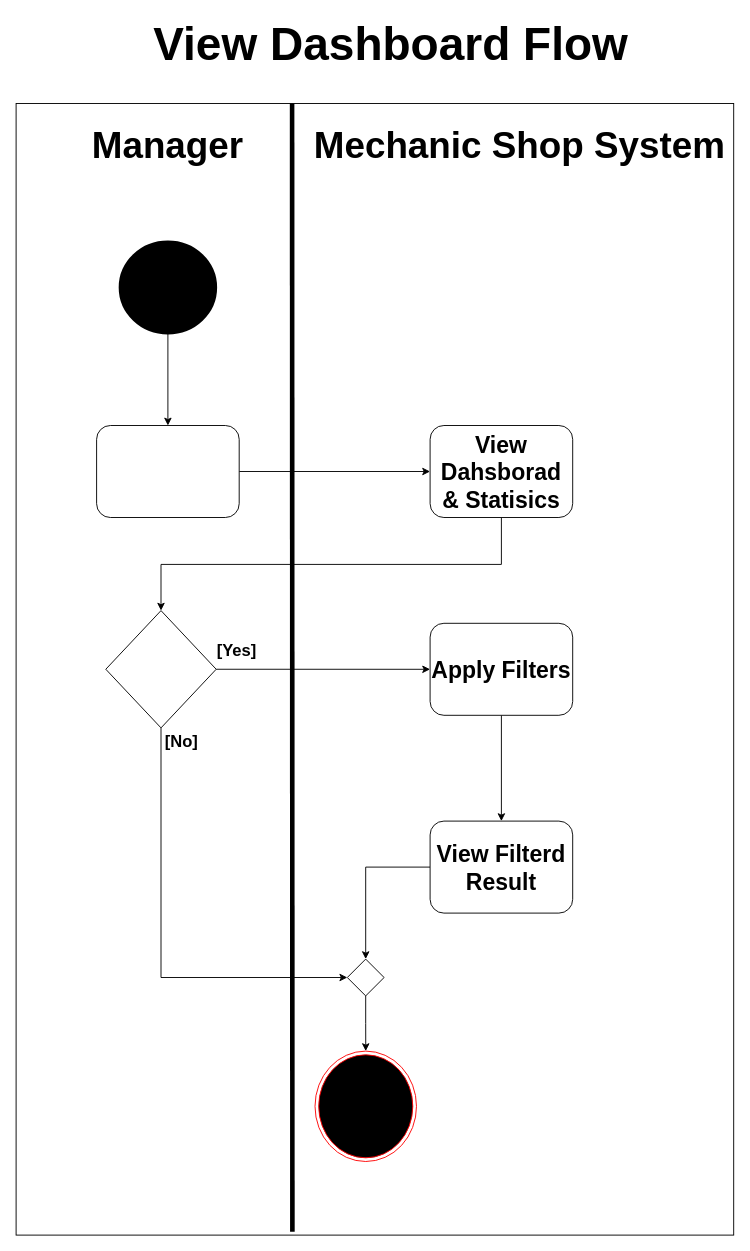
This 750x1251 diagram has some shape labels left out. Here are the shapes that lost their labels. From the top down, the box of each, then its label:
(96, 425, 239, 518): Opens Dashboard Page
(105, 610, 216, 728): Chooses Filters
